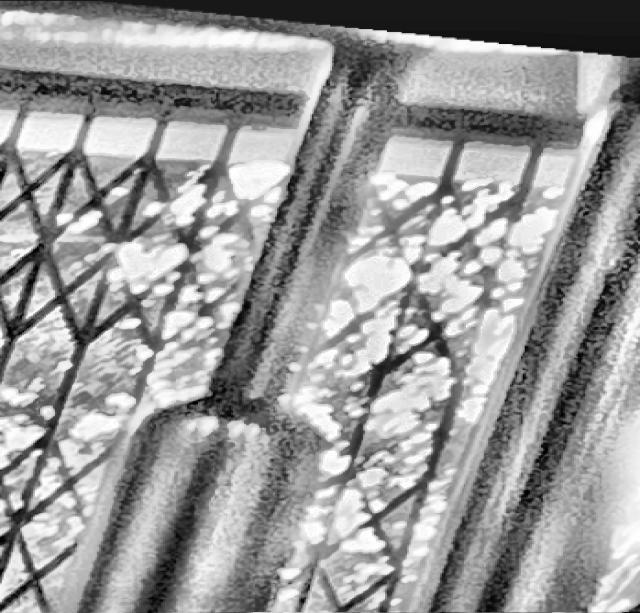wall: (0, 1, 640, 613)
